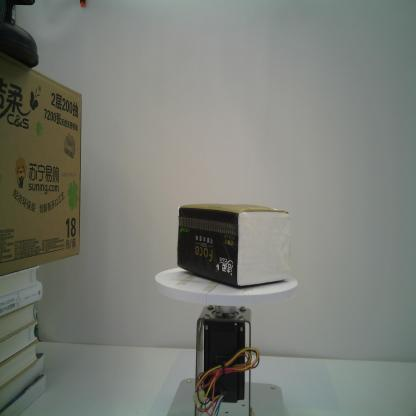Tissue: (176, 200, 293, 289)
